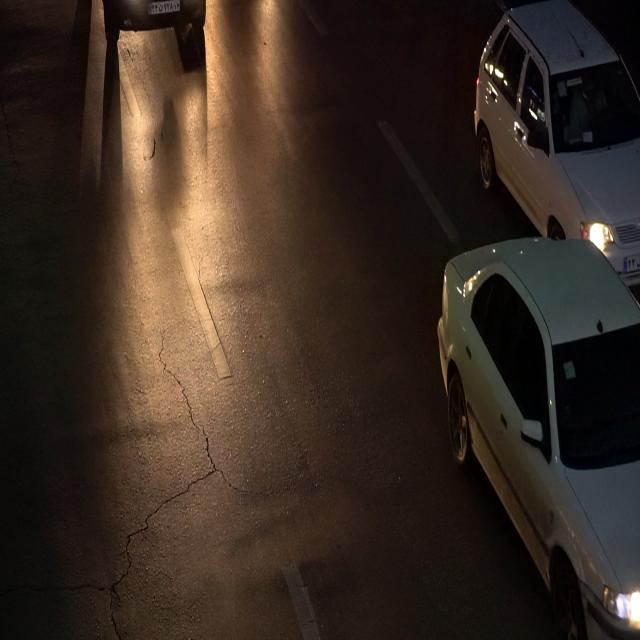car: (434, 241, 640, 637), (471, 4, 640, 288)
